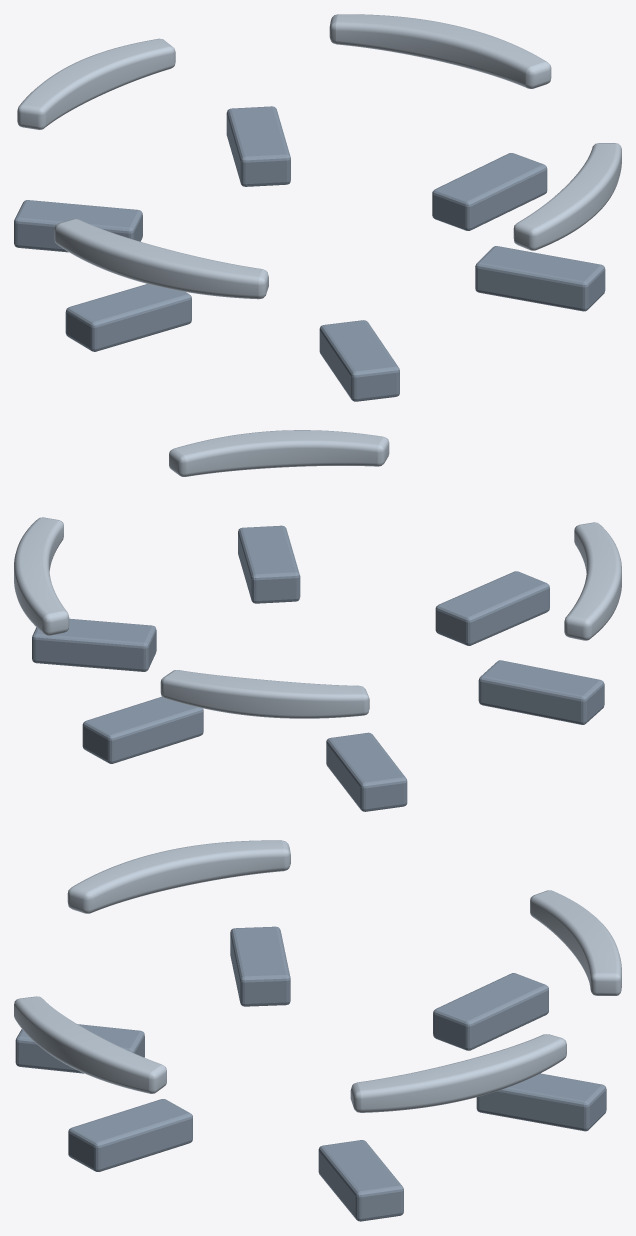
File: ev_core_r11c_iris.glb
3 renders of one model, top to bottom at view 1: azimuth 30°, elevation 25°; view 2: azimuth 150°, elevation 25°; view 3: azimuth 270°, elevation 25°, orthographic. The views are drawn at different scales.
Parts seen in each view (by area): view 1: FrontBezel_0, FrontBezel_2, FrontBezel_1, IrisBlade_5, IrisBlade_3, IrisBlade_0, FrontBezel_3, IrisBlade_4, IrisBlade_1, IrisBlade_2; view 2: FrontBezel_3, FrontBezel_1, IrisBlade_3, IrisBlade_4, IrisBlade_1, IrisBlade_0, IrisBlade_2, FrontBezel_2, FrontBezel_0, IrisBlade_5; view 3: FrontBezel_2, FrontBezel_0, FrontBezel_3, IrisBlade_5, IrisBlade_2, IrisBlade_1, IrisBlade_0, FrontBezel_1, IrisBlade_3, IrisBlade_4.
Boxes of the visible parts, box(x1,y1,x2,y2) form: FrontBezel_0: box(329, 14, 551, 88); FrontBezel_2: box(54, 219, 268, 299); FrontBezel_1: box(17, 38, 175, 129); IrisBlade_5: box(475, 246, 605, 311); IrisBlade_3: box(65, 284, 191, 351); IrisBlade_0: box(432, 153, 547, 230); FrontBezel_3: box(513, 143, 621, 250); IrisBlade_4: box(319, 320, 399, 401); IrisBlade_1: box(226, 106, 290, 186); IrisBlade_2: box(14, 200, 142, 252); FrontBezel_3: box(169, 430, 389, 476); FrontBezel_1: box(160, 670, 369, 718); IrisBlade_3: box(478, 660, 604, 724); IrisBlade_4: box(435, 571, 549, 645); IrisBlade_1: box(82, 696, 203, 763); IrisBlade_0: box(32, 618, 156, 671); IrisBlade_2: box(326, 732, 407, 811); FrontBezel_2: box(564, 522, 621, 640); FrontBezel_0: box(14, 517, 69, 635); IrisBlade_5: box(238, 525, 300, 603); FrontBezel_2: box(67, 840, 290, 913); FrontBezel_0: box(350, 1034, 566, 1112); FrontBezel_3: box(14, 996, 166, 1093); IrisBlade_5: box(68, 1099, 192, 1171); IrisBlade_2: box(433, 973, 548, 1050); IrisBlade_1: box(476, 1073, 606, 1131); IrisBlade_0: box(318, 1140, 403, 1221); FrontBezel_1: box(530, 890, 621, 995); IrisBlade_3: box(230, 926, 290, 1006); IrisBlade_4: box(15, 1024, 144, 1073).
Bounding box in the file's own units: 4.12 × 1.02 × 4.06.
